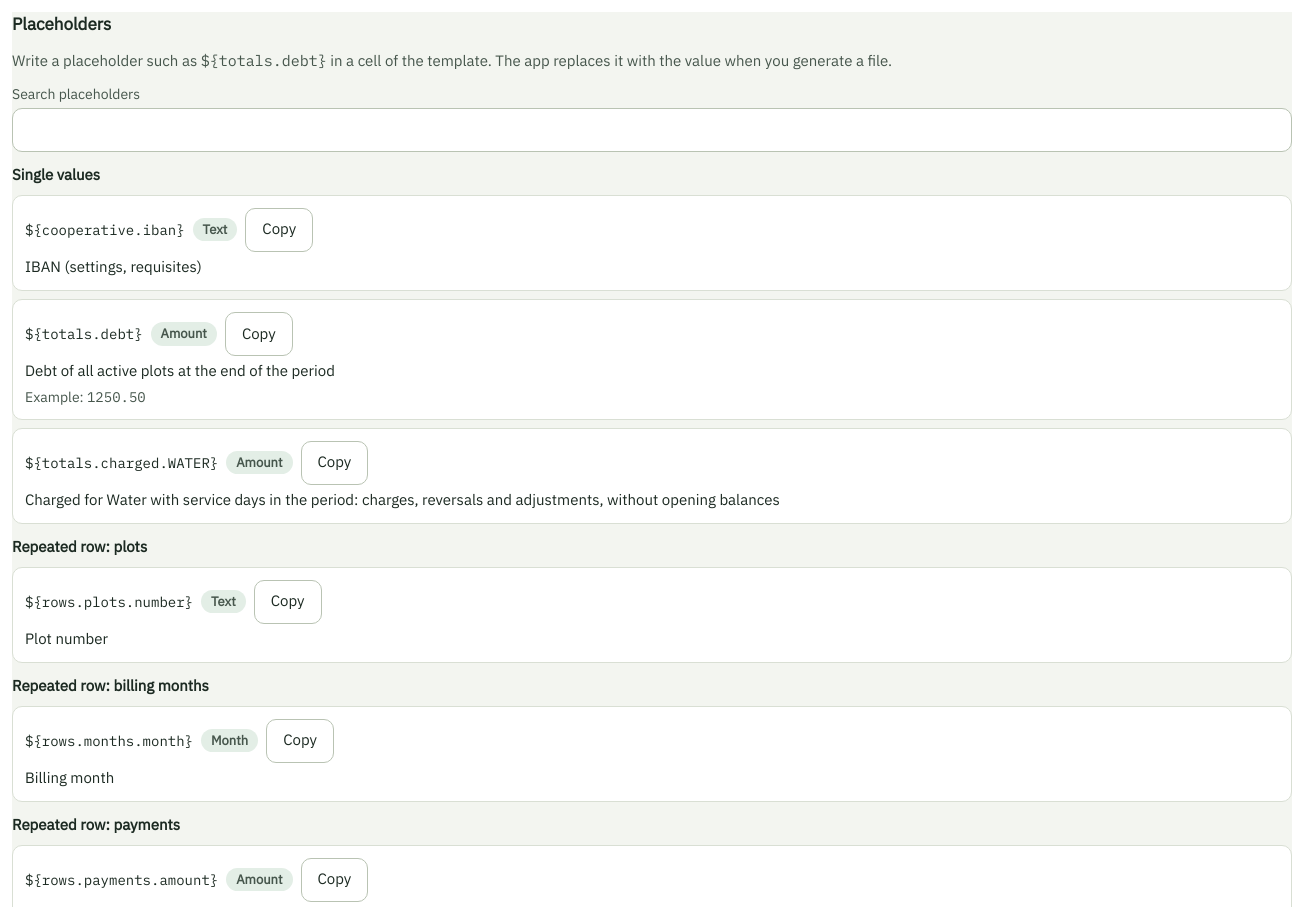
Test: FieldCatalog › copies the placeholder text and says Copied
Click the button named "Copy the placeholder: Debt of all active plots at the end of the period". click: (259, 334)
box: [225,312,293,356]
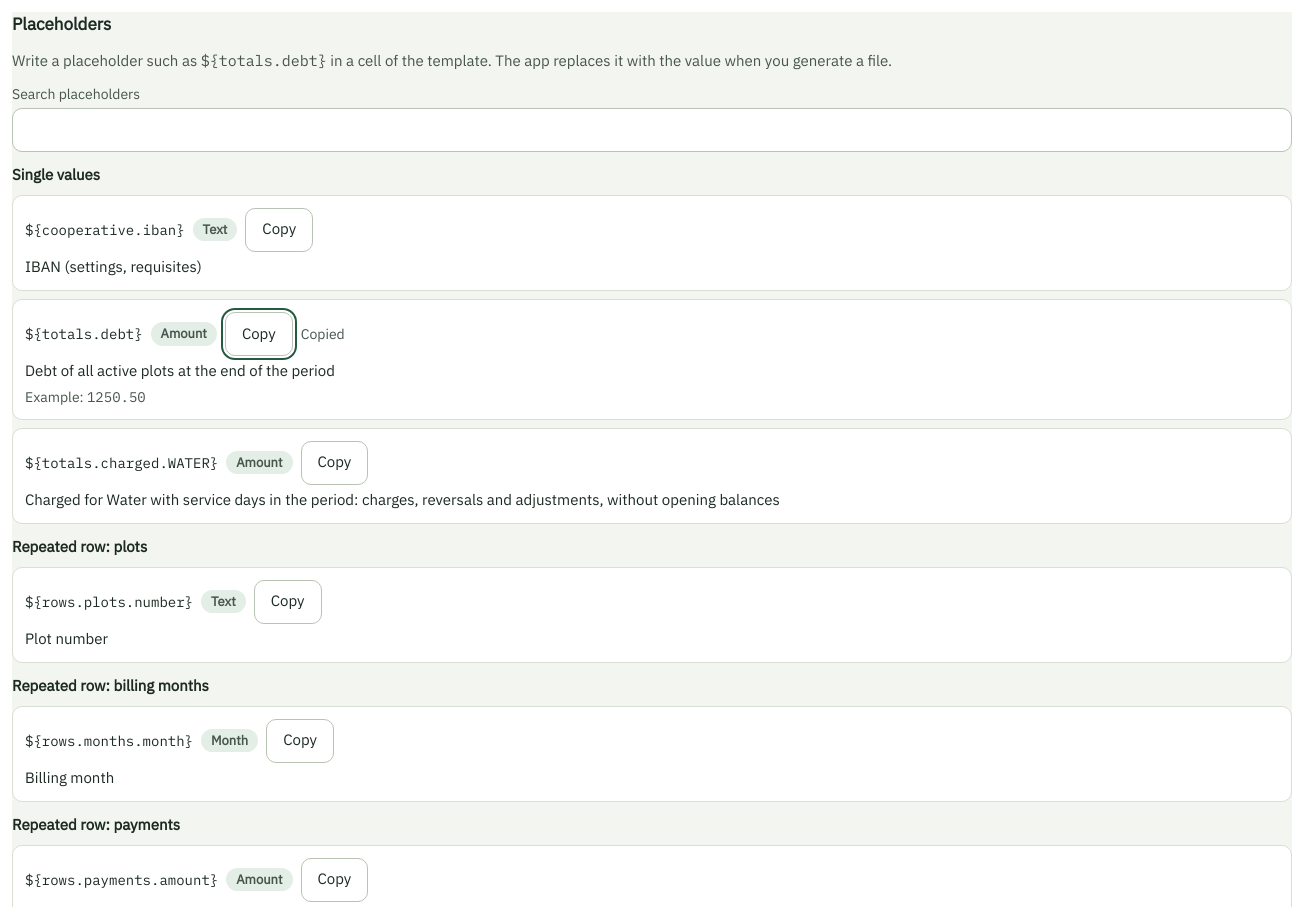
Check: the text "Copied" is shown, box [301,324,345,344]
